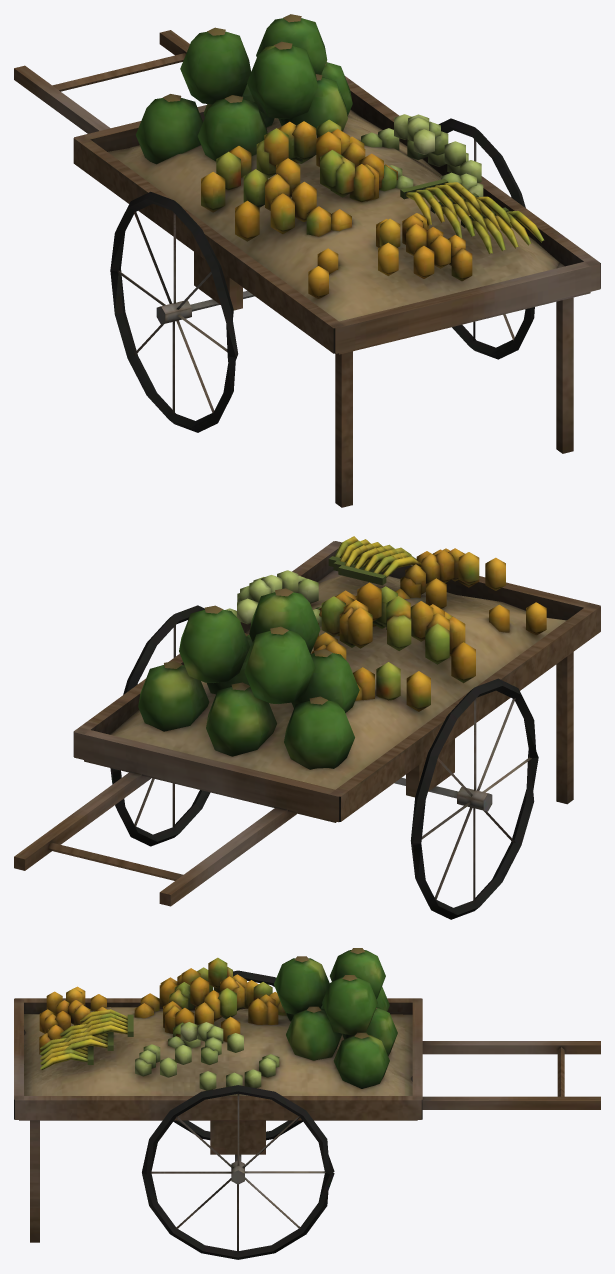
Rendered from fruit_cart.glb.
The picture shows the model from 3 angles, top to bottom: view 1: azimuth 30°, elevation 25°; view 2: azimuth 150°, elevation 25°; view 3: azimuth 270°, elevation 25°; orthographic projection. The views are drawn at different scales.
Parts seen in each view (by area): view 1: body; view 2: body; view 3: body.
Part boxes in pixels (left/top/right/bottom): body: left=14, top=14, right=600, bottom=507; body: left=14, top=536, right=600, bottom=919; body: left=14, top=948, right=600, bottom=1259.
Bounding box in the file's own units: 1.48 × 1.36 × 2.94.
1 material, 1 textured.
